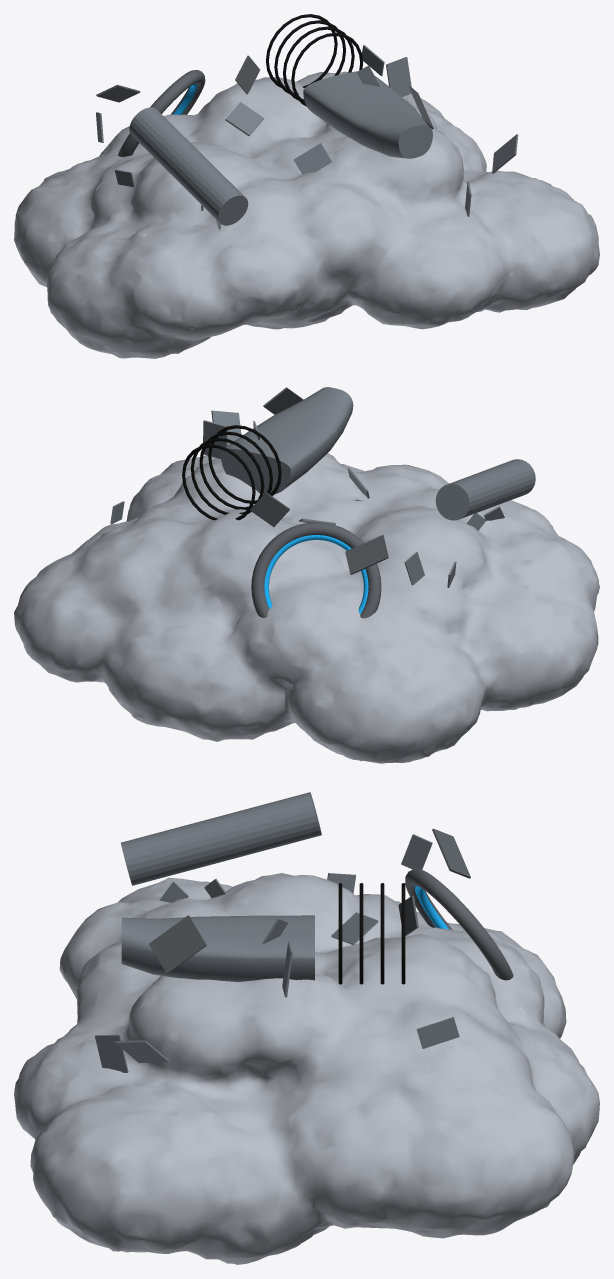
File: wreck_haze.obj
3 renders of one model, top to bottom at view 1: azimuth 30°, elevation 25°; view 2: azimuth 150°, elevation 25°; view 3: azimuth 270°, elevation 25°, orthographic. The views are drawn at different scales.
Parts seen in each view (by area): view 1: wreck_haze; view 2: wreck_haze; view 3: wreck_haze.
Part boxes in pixels (<box>): wreck_haze: <box>14,14,599,358</box>; wreck_haze: <box>14,387,599,763</box>; wreck_haze: <box>14,792,599,1264</box>.
Bounding box in the file's own units: 1200 × 601 × 1026.
Materials: 1 (1 with a texture image).
